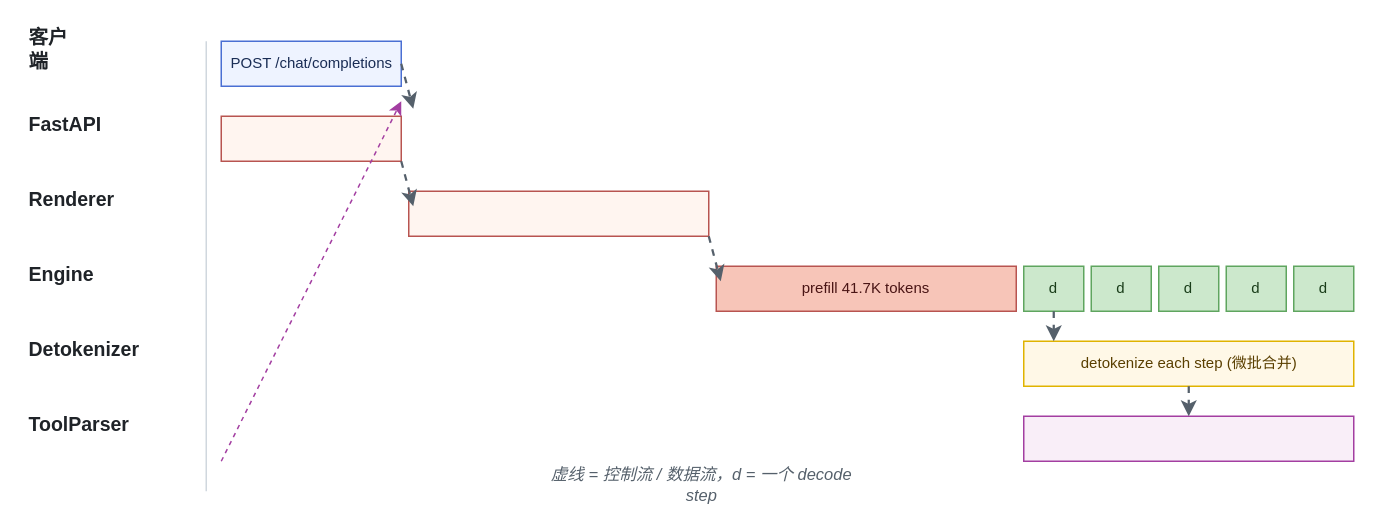
Image size: 1380x528. Some labels were removed from this diagram. Each missing label, with the centre of its shape:
"apply_chat_template + tokenize" goes at point 558,213.
"DSML detector → SSE delta frames" goes at point 1188,438.
"parse + validate" goes at point 310,138.
